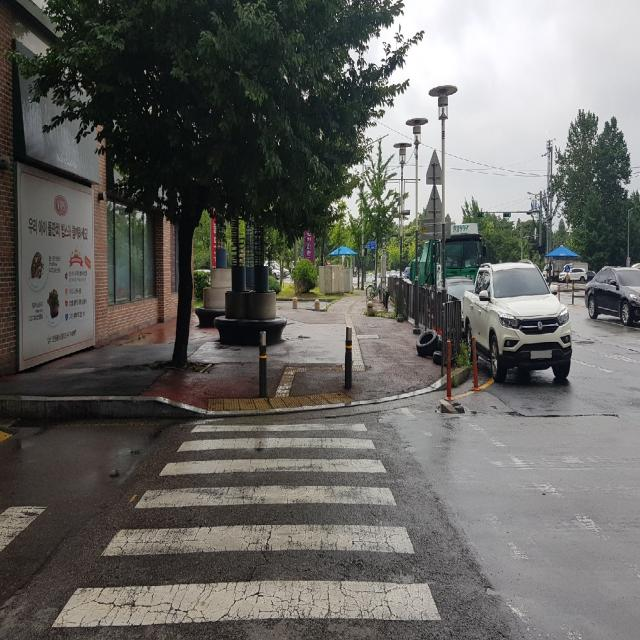횡단보도: (52, 420, 442, 630)
